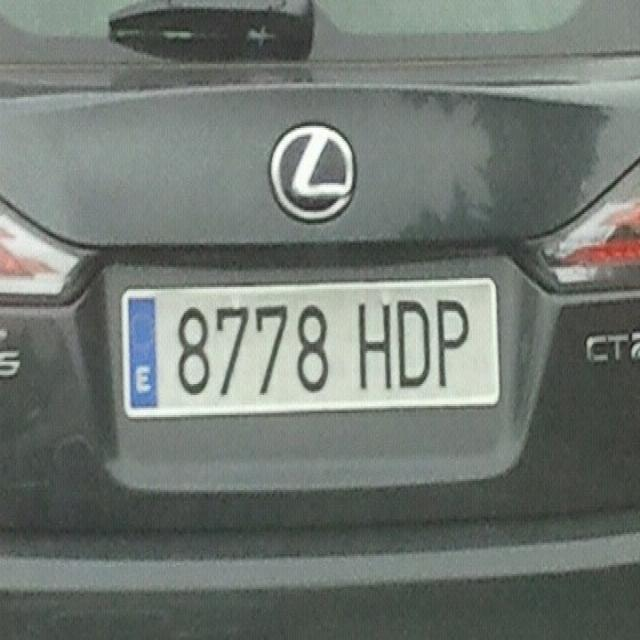license_plate-34Td: (107, 274, 501, 417)
